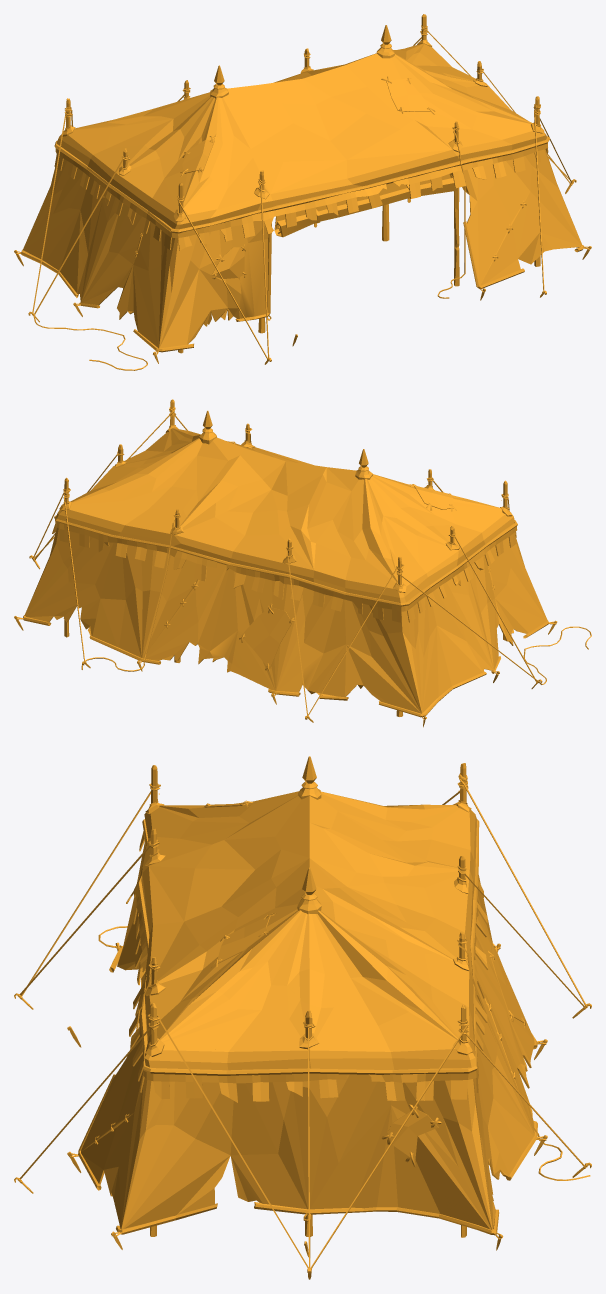
The model's file is SM_Tent_Royal_Striped_Repaired_Fantasy.fbx.
3 views of the same model, one above another, from view 1: azimuth 30°, elevation 25°; view 2: azimuth 150°, elevation 25°; view 3: azimuth 270°, elevation 25° (orthographic). The views are drawn at different scales.
Parts seen in each view (by area): view 1: tent-royal-striped-repaired-fantasy; view 2: tent-royal-striped-repaired-fantasy; view 3: tent-royal-striped-repaired-fantasy.
Boxes of the visible parts, x1,y1,x2,y2 form: tent-royal-striped-repaired-fantasy: [14, 14, 591, 370]; tent-royal-striped-repaired-fantasy: [14, 399, 591, 727]; tent-royal-striped-repaired-fantasy: [14, 756, 591, 1279].
Size of the model in its own units: 13.65 by 5.31 by 9.11.
